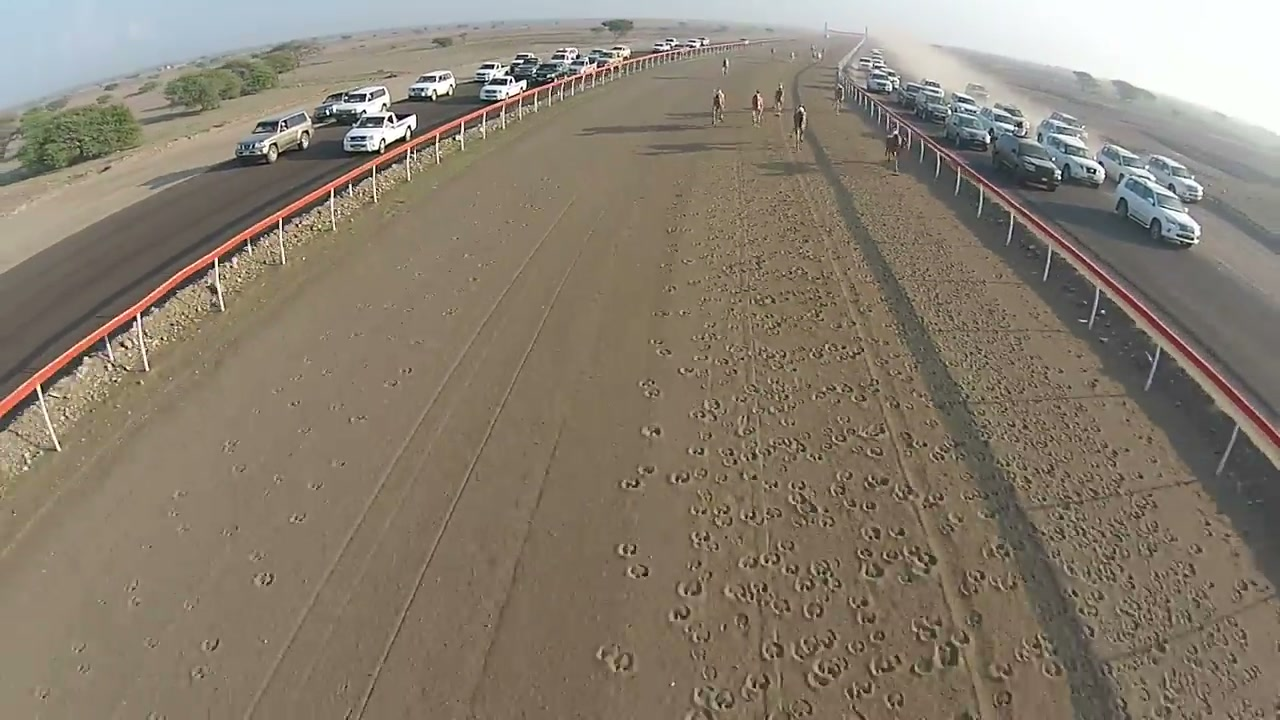animal_foot_print: (659, 162, 1017, 717), (738, 473, 918, 715), (686, 685, 739, 717), (804, 657, 850, 691), (596, 644, 634, 673), (739, 672, 774, 703), (932, 639, 966, 667), (910, 617, 943, 642), (683, 621, 712, 644), (691, 530, 720, 552), (911, 655, 937, 676), (986, 661, 1013, 681), (676, 579, 704, 598), (860, 560, 885, 581), (803, 599, 825, 620), (639, 379, 661, 398), (596, 645, 621, 661), (619, 475, 643, 490), (668, 470, 692, 485), (253, 571, 275, 587), (733, 612, 751, 631), (698, 665, 719, 681), (627, 563, 649, 578), (641, 424, 663, 439), (190, 665, 211, 680), (615, 543, 637, 557), (201, 637, 220, 652), (687, 445, 708, 458), (221, 524, 240, 538), (183, 596, 199, 611), (636, 464, 656, 476), (222, 439, 239, 453), (247, 550, 265, 563), (125, 578, 140, 593), (127, 594, 142, 608), (143, 636, 159, 649), (329, 457, 346, 469), (348, 414, 368, 424), (328, 401, 345, 412), (288, 513, 305, 524), (77, 661, 91, 674), (72, 642, 86, 655), (441, 307, 459, 317), (231, 463, 247, 474), (655, 347, 672, 357), (384, 378, 400, 388), (307, 480, 323, 490), (145, 712, 167, 719), (652, 310, 671, 318), (171, 489, 186, 499), (175, 523, 190, 533), (649, 338, 665, 346)
